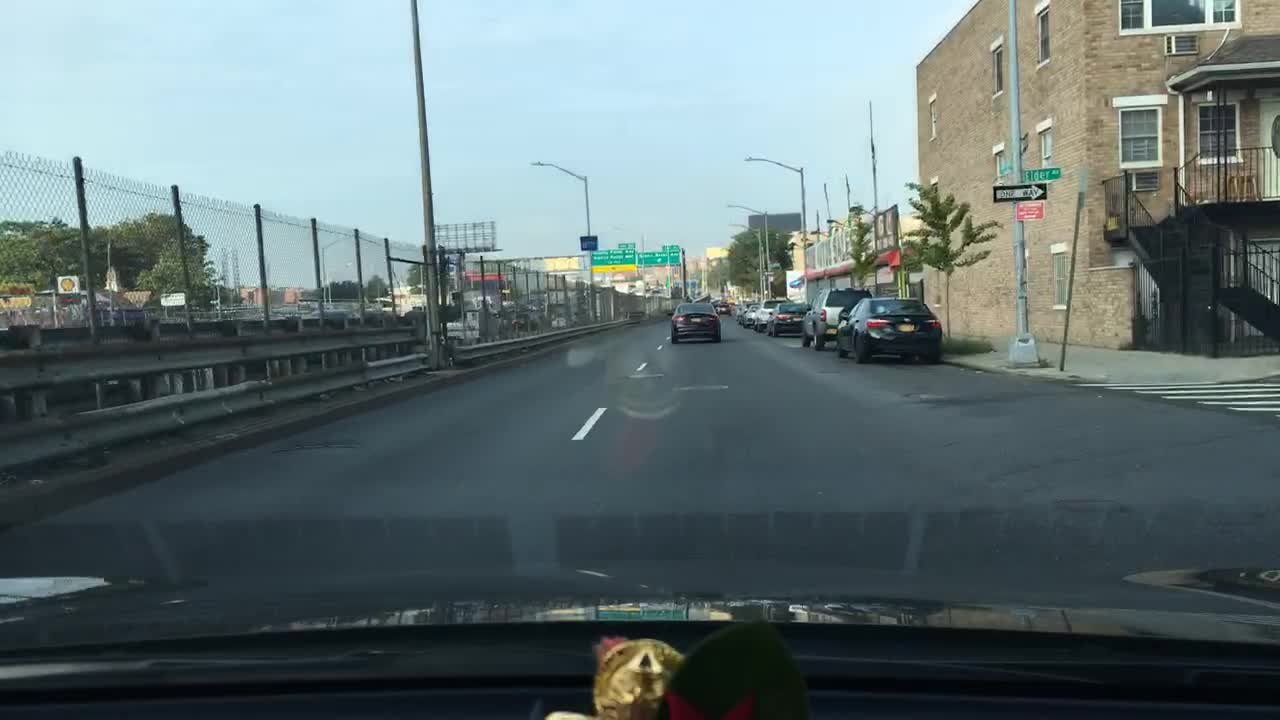car: (834, 295, 943, 361), (799, 284, 871, 350), (669, 301, 723, 345), (763, 300, 810, 339), (752, 297, 787, 333), (741, 301, 760, 329), (733, 300, 755, 324), (713, 301, 730, 316), (664, 305, 674, 314)
traffic sign: (992, 183, 1047, 204), (591, 249, 637, 272), (637, 250, 681, 266), (542, 256, 579, 273), (1017, 201, 1046, 222), (1022, 166, 1061, 180), (159, 291, 186, 307), (661, 244, 680, 251), (618, 242, 635, 248)
